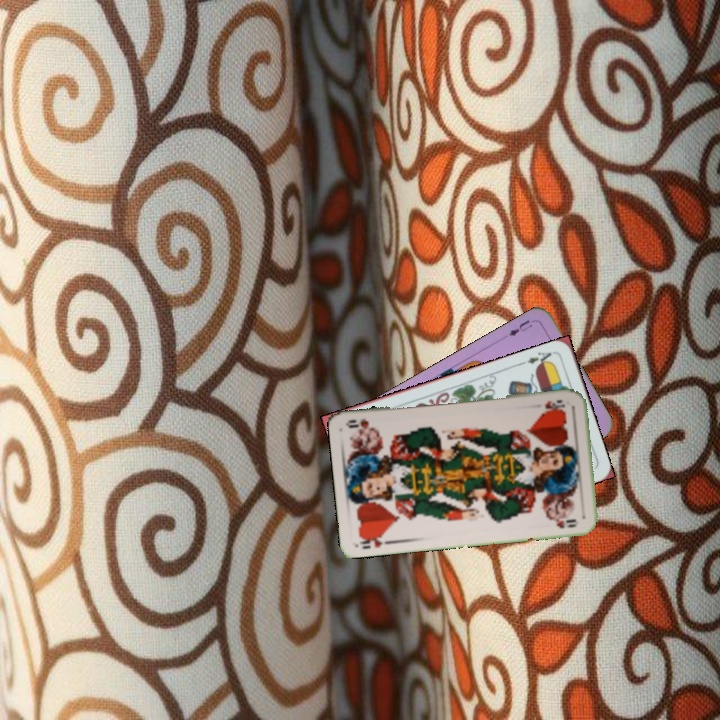EA: (523, 347, 557, 370)
EU: (500, 316, 535, 341)
HO: (355, 531, 395, 551), (540, 396, 567, 414)
